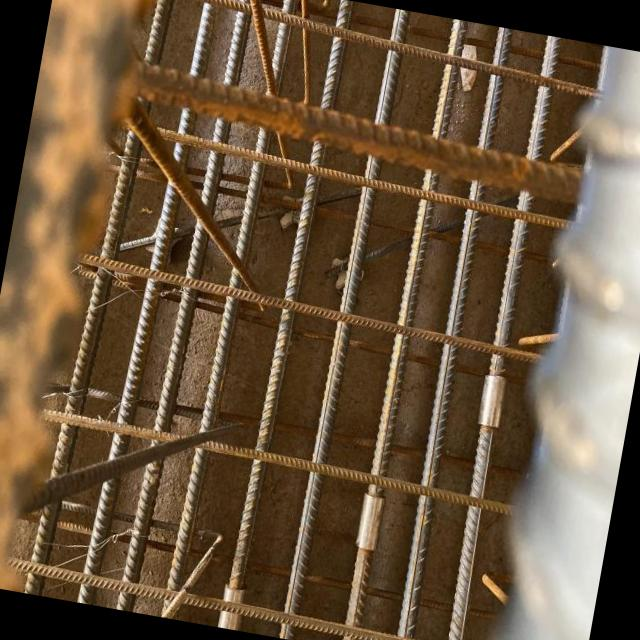ribbed bar: (456, 167, 599, 640), (224, 78, 344, 632), (190, 72, 640, 218), (115, 49, 230, 612), (179, 144, 640, 281), (338, 115, 457, 640), (171, 197, 640, 328), (161, 255, 640, 380), (149, 332, 628, 452), (135, 412, 614, 530), (121, 496, 600, 607), (437, 199, 545, 640), (537, 179, 640, 640), (110, 554, 589, 640)
